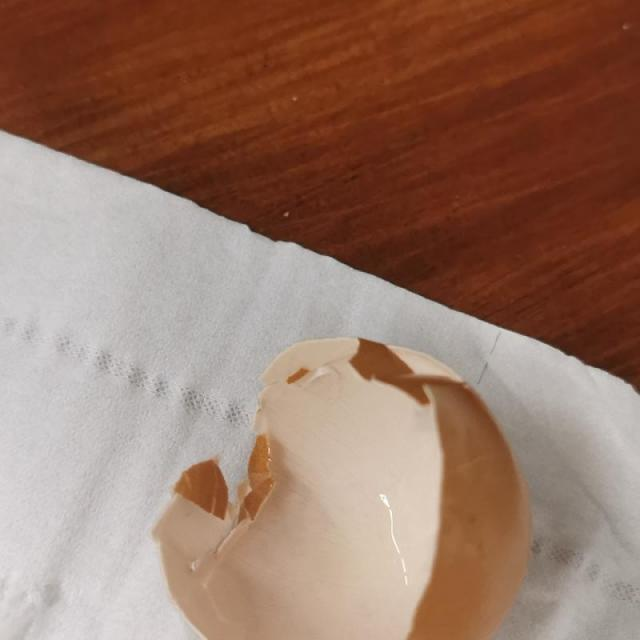egg shell: (147, 336, 532, 639)
